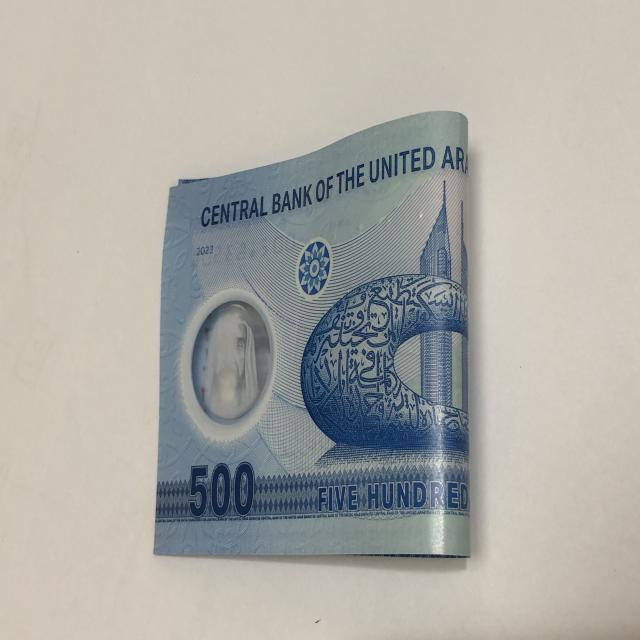500_AED: (149, 96, 474, 568)
